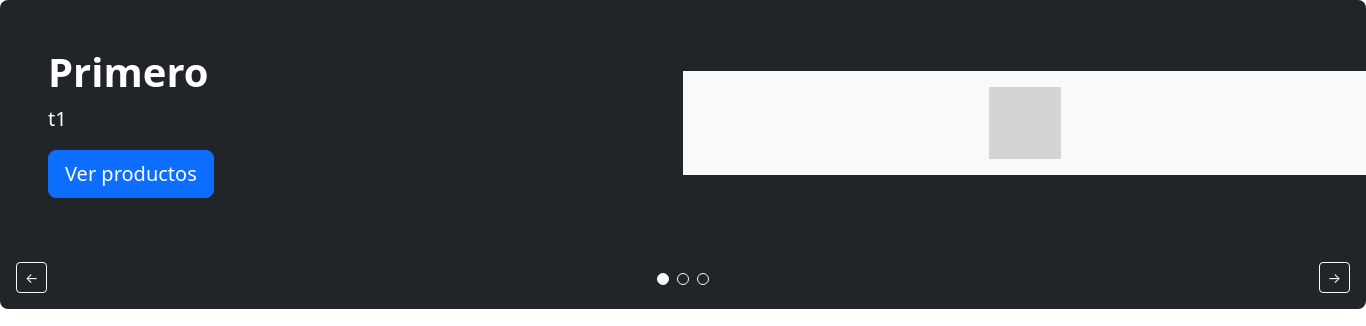
Carrusel › avanza y retrocede con los botones, dando la vuelta al llegar al borde
What coordinates should you click on to do the following:
click the button named "slide siguiente"
I would click on:
 (1334, 278)
Its box is [1319, 262, 1350, 293].
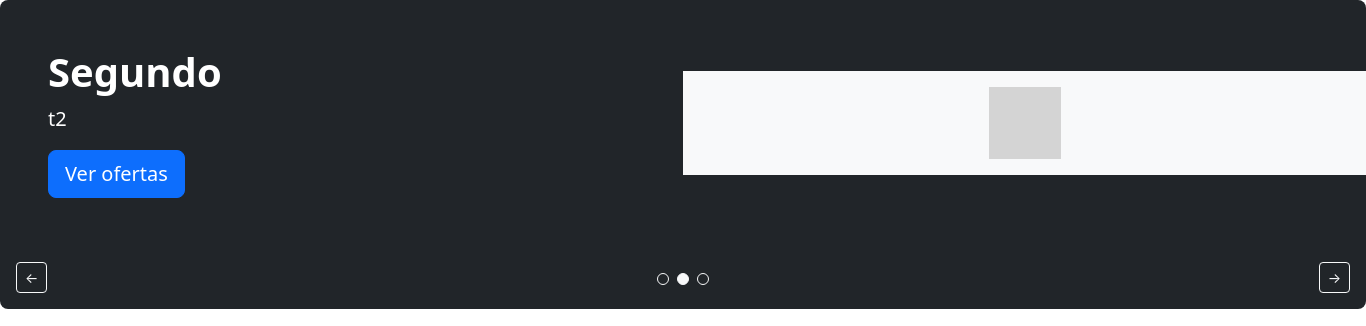
Expected: the heading "Segundo" is shown, [48, 44, 222, 99]
What coordinates should you click on to do the following:
click the button named "slide anterior"
I would click on:
 (32, 278)
Its box is [16, 262, 47, 293].
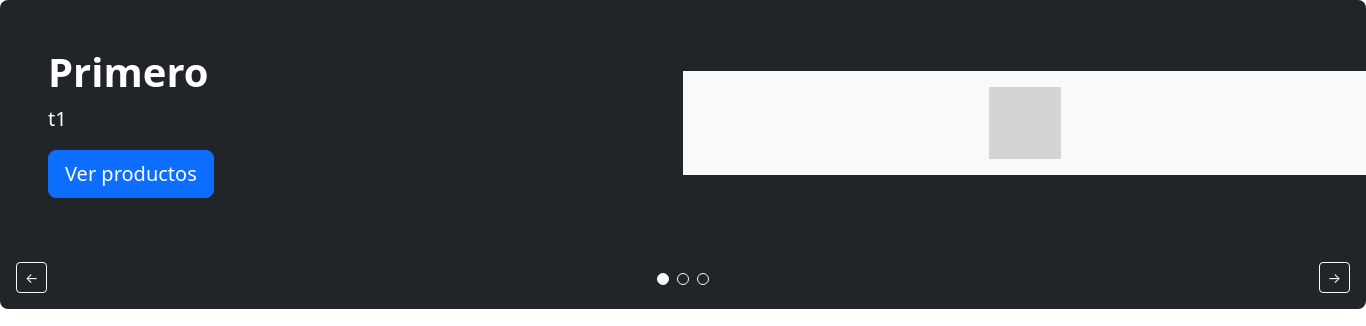
What coordinates should you click on to do the following:
click the button named "slide anterior"
I would click on:
 (32, 278)
Its box is [16, 262, 47, 293].
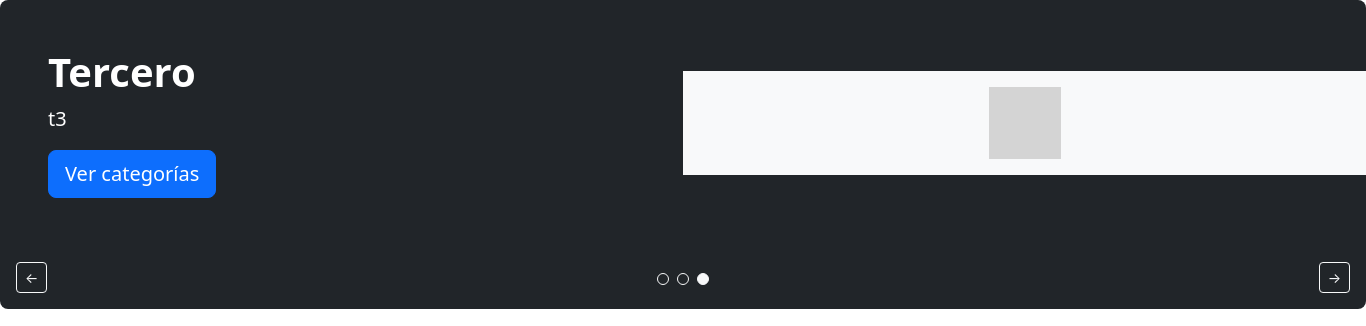
Expected: the heading "Tercero" is shown, [48, 44, 196, 99]
